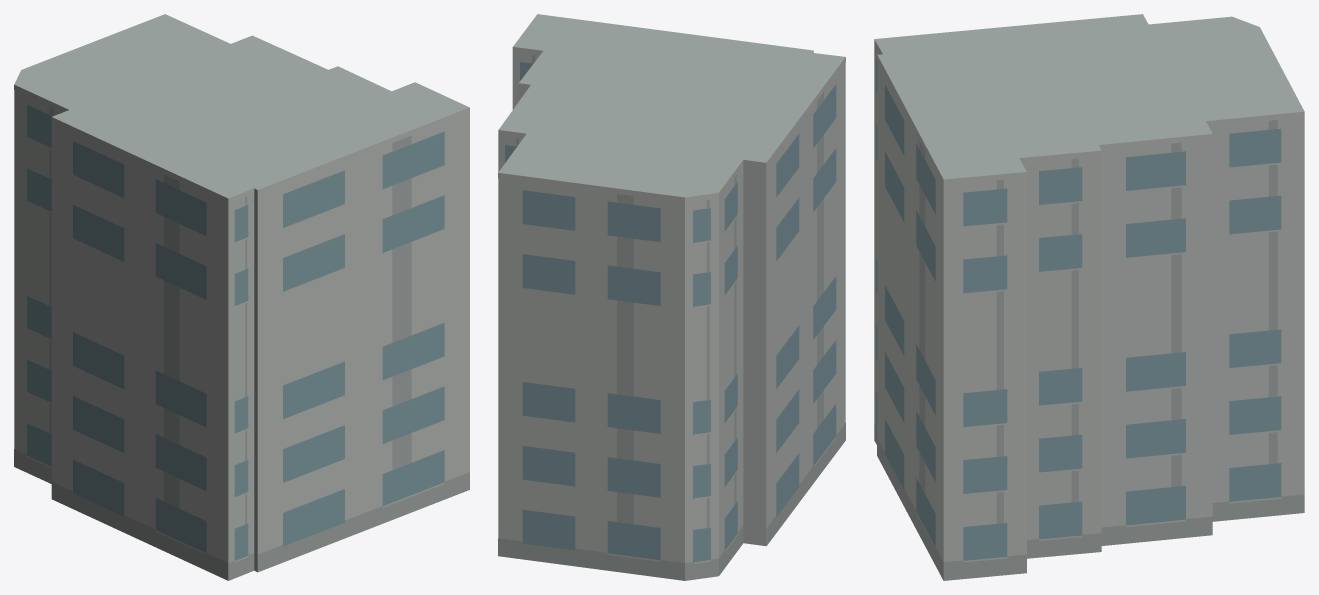
Rendered from survey-upis-32836726.glb.
3 renders of one model, left to right at view 1: azimuth 30°, elevation 25°; view 2: azimuth 150°, elevation 25°; view 3: azimuth 270°, elevation 25°, orthographic. The views are drawn at different scales.
Visible parts, largest first — view 1: survey-upis-32836726.tmp; view 2: survey-upis-32836726.tmp; view 3: survey-upis-32836726.tmp.
Boxes of the visible parts, x1=… form: survey-upis-32836726.tmp: x1=14, y1=14, x2=469, y2=580; survey-upis-32836726.tmp: x1=498, y1=14, x2=845, y2=580; survey-upis-32836726.tmp: x1=874, y1=14, x2=1304, y2=580.
Bounding box in the file's own units: 15.1 × 17.05 × 16.58.
